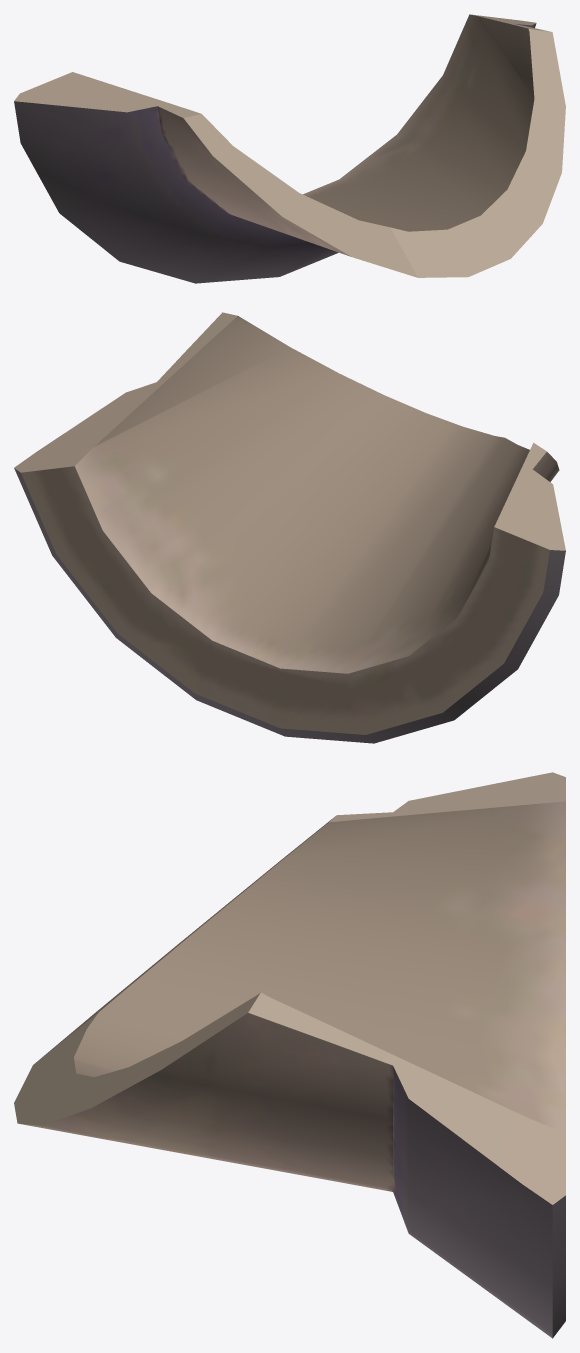
The model's file is Pot_Cell11.fbx.
3 renders of one model, top to bottom at view 1: azimuth 30°, elevation 25°; view 2: azimuth 150°, elevation 25°; view 3: azimuth 270°, elevation 25°, orthographic. The views are drawn at different scales.
Parts seen in each view (by area): view 1: jar1_cell.011; view 2: jar1_cell.011; view 3: jar1_cell.011.
Boxes of the visible parts, x1=… form: jar1_cell.011: x1=14, y1=14, x2=565, y2=283; jar1_cell.011: x1=14, y1=312, x2=565, y2=743; jar1_cell.011: x1=14, y1=772, x2=565, y2=1338.
Bounding box in the file's own units: 183 × 96.27 × 118.
Materials: 1 (1 with a texture image).
